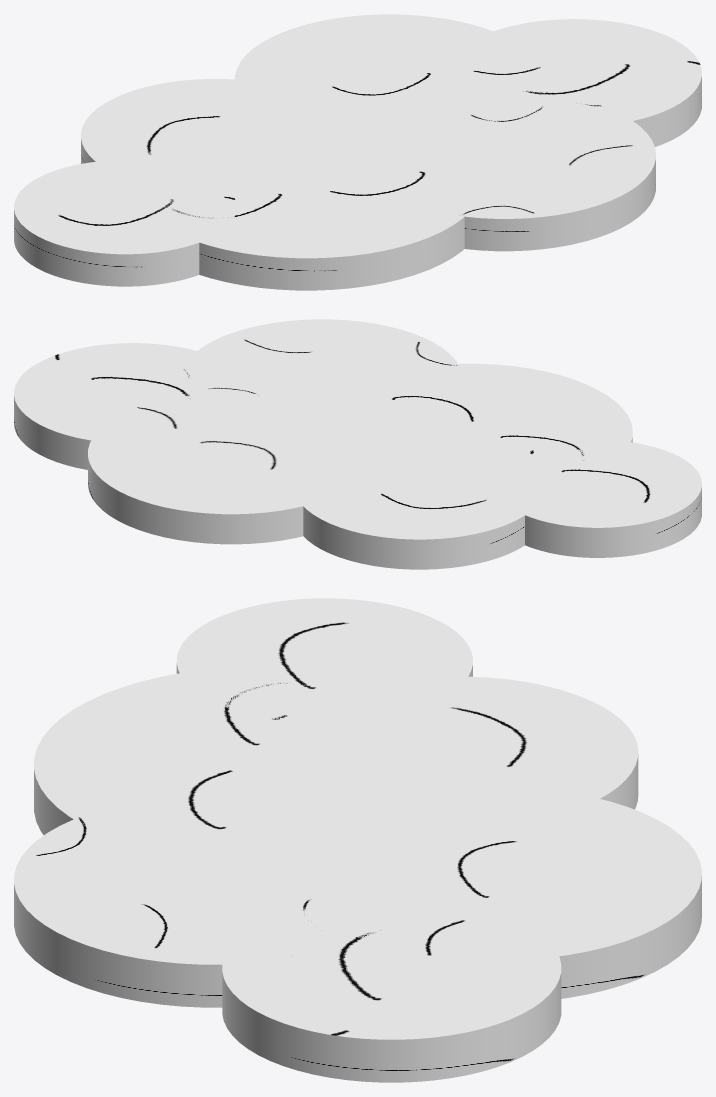
The model's file is cloud3.obj.
3 renders of one model, top to bottom at view 1: azimuth 30°, elevation 25°; view 2: azimuth 150°, elevation 25°; view 3: azimuth 270°, elevation 25°, orthographic. The views are drawn at different scales.
Visible parts, largest first — view 1: Cylinder.008; view 2: Cylinder.008; view 3: Cylinder.008.
Boxes of the visible parts, x1,y1,x2,y2 form: Cylinder.008: (14, 14, 701, 290); Cylinder.008: (14, 319, 701, 569); Cylinder.008: (14, 598, 701, 1082).
Size of the model in its own units: 4.09 by 0.1852 by 2.69.
